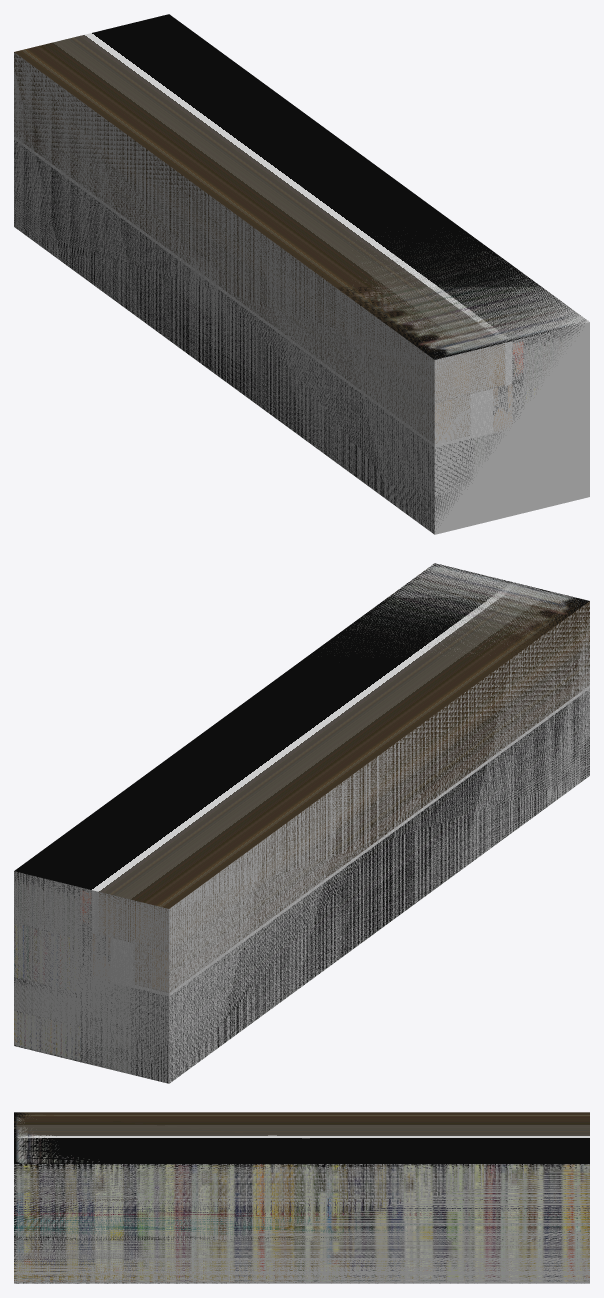
Rendered from books_02.DAE.
3 views of the same model, one above another, from view 1: azimuth 30°, elevation 25°; view 2: azimuth 150°, elevation 25°; view 3: azimuth 270°, elevation 25° (orthographic). The views are drawn at different scales.
Visible parts, largest first — view 1: colbox-1, bounds, books_two100; view 2: colbox-1, bounds, books_two100; view 3: bounds, books_two100, colbox-1.
Part boxes in pixels (x1,y1,x2,y2): colbox-1: (14,14,585,533); bounds: (14,53,589,534); books_two100: (322,239,584,359); colbox-1: (14,567,589,1083); bounds: (14,563,589,1083); books_two100: (347,563,589,655); bounds: (14,1164,589,1283); books_two100: (14,1112,589,1281); colbox-1: (14,1112,589,1283).
Size of the model in its own units: 25.19 by 118 by 27.12.
